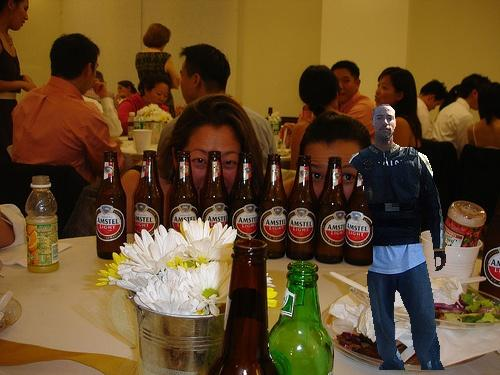tampered: (349, 105, 446, 370)
